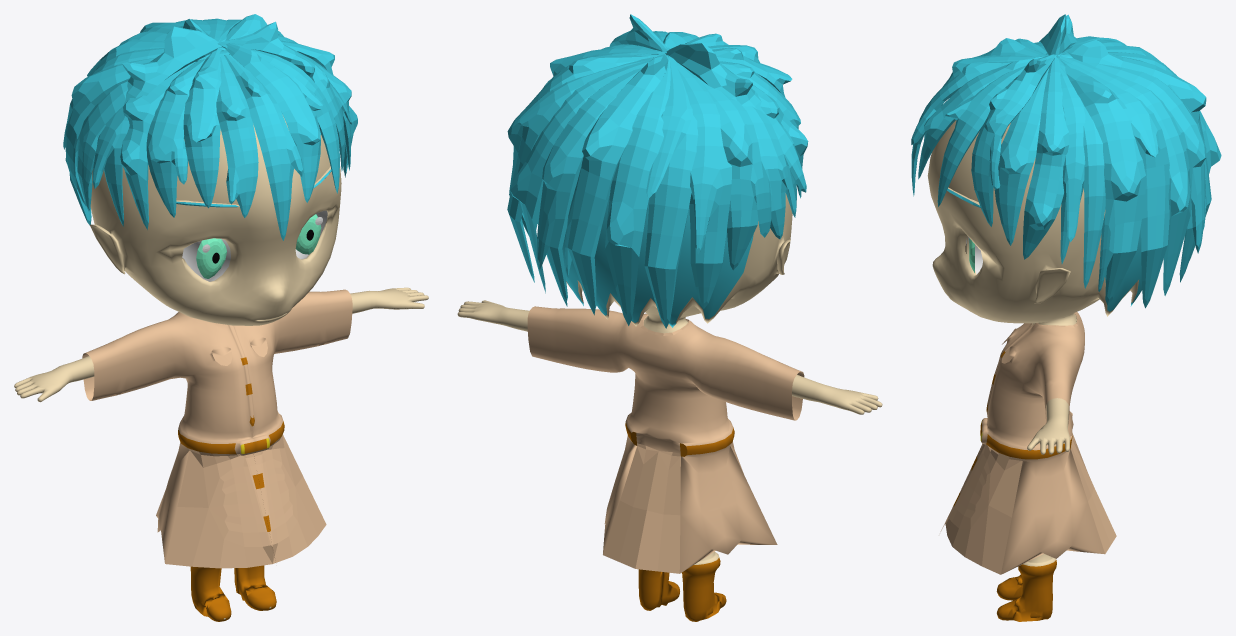
File: piko2.fbx
3 views of the same model, side by side, from view 1: azimuth 30°, elevation 25°; view 2: azimuth 150°, elevation 25°; view 3: azimuth 270°, elevation 25° (orthographic). The views are drawn at different scales.
Parts seen in each view (by area): view 1: uniform, body, hair.mesh.000, hair.curve.000, hair.curve.007, hair.curve.008, hair.curve.004, hair.curve.001, hair.curve.009, hair.curve.020, hair.curve.003, hair.curve.002 (+6 smaller); view 2: uniform, body, hair.curve.018, hair.curve.016, hair.curve.017, hair.curve.019, hair.curve.015, hair.curve.020, hair.curve.014, hair.mesh.000, hair.curve.013, hair.curve.021 (+6 smaller); view 3: uniform, body, hair.curve.012, hair.curve.013, hair.curve.005, hair.curve.014, hair.curve.003, hair.curve.006, hair.curve.015, hair.curve.010, hair.curve.011, hair.curve.002 (+7 smaller).
Part boxes in pixels (bbox=[...]): uniform: bbox=[82, 289, 352, 568]; body: bbox=[14, 116, 428, 621]; hair.mesh.000: bbox=[92, 26, 220, 226]; hair.curve.000: bbox=[224, 54, 303, 240]; hair.curve.007: bbox=[183, 47, 221, 208]; hair.curve.008: bbox=[146, 59, 205, 217]; hair.curve.004: bbox=[216, 55, 258, 217]; hair.curve.001: bbox=[224, 43, 320, 202]; hair.curve.009: bbox=[120, 61, 196, 229]; hair.curve.020: bbox=[65, 50, 229, 205]; hair.curve.003: bbox=[217, 21, 351, 171]; hair.curve.002: bbox=[220, 45, 339, 193]; uniform: bbox=[527, 306, 804, 573]; body: bbox=[457, 193, 882, 621]; hair.curve.018: bbox=[644, 55, 698, 328]; hair.curve.016: bbox=[565, 54, 668, 315]; hair.curve.017: bbox=[604, 55, 670, 325]; hair.curve.019: bbox=[676, 61, 731, 308]; hair.curve.015: bbox=[537, 68, 642, 306]; hair.curve.020: bbox=[695, 75, 771, 270]; hair.curve.014: bbox=[510, 58, 654, 293]; hair.mesh.000: bbox=[665, 43, 806, 217]; hair.curve.013: bbox=[507, 57, 655, 282]; hair.curve.021: bbox=[743, 106, 796, 239]; uniform: bbox=[940, 312, 1116, 574]; body: bbox=[927, 120, 1142, 621]; hair.curve.012: bbox=[1065, 66, 1145, 305]; hair.curve.013: bbox=[1060, 60, 1169, 308]; hair.curve.005: bbox=[1023, 57, 1069, 259]; hair.curve.014: bbox=[1057, 56, 1190, 295]; hair.curve.003: bbox=[971, 54, 1054, 226]; hair.curve.006: bbox=[994, 68, 1048, 245]; hair.curve.015: bbox=[1086, 62, 1206, 282]; hair.curve.010: bbox=[1057, 57, 1085, 263]; hair.curve.011: bbox=[1060, 65, 1105, 288]; hair.curve.002: bbox=[937, 55, 1056, 206].
Bounding box in the file's own units: 318 × 428 × 210.
